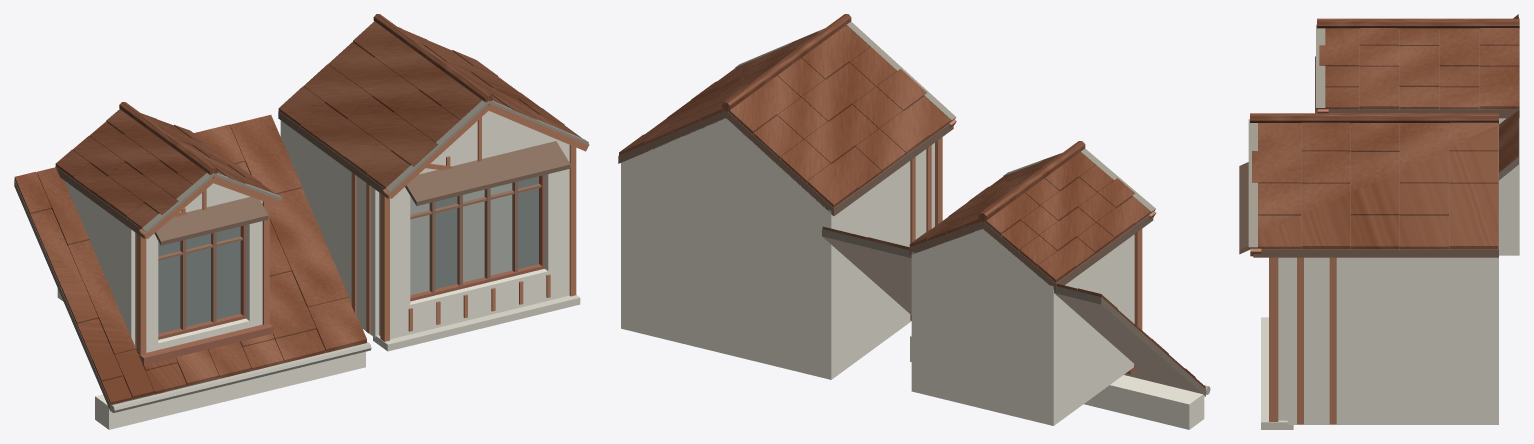
Rendered from xinhua-16-gables-far.glb.
3 renders of one model, left to right at view 1: azimuth 30°, elevation 25°; view 2: azimuth 150°, elevation 25°; view 3: azimuth 270°, elevation 25°, orthographic. The views are drawn at different scales.
Visible parts, largest first — view 1: 新华路211弄16号花园住宅老虎窗与相邻山墙; view 2: 新华路211弄16号花园住宅老虎窗与相邻山墙; view 3: 新华路211弄16号花园住宅老虎窗与相邻山墙.
Boxes of the visible parts, left/top/right/bottom form: 新华路211弄16号花园住宅老虎窗与相邻山墙: left=14, top=14, right=589, bottom=429; 新华路211弄16号花园住宅老虎窗与相邻山墙: left=618, top=14, right=1210, bottom=429; 新华路211弄16号花园住宅老虎窗与相邻山墙: left=1239, top=14, right=1519, bottom=429.
Size of the model in its own units: 5.06 by 2.84 by 2.42.
Materials: 13 (1 with a texture image).
